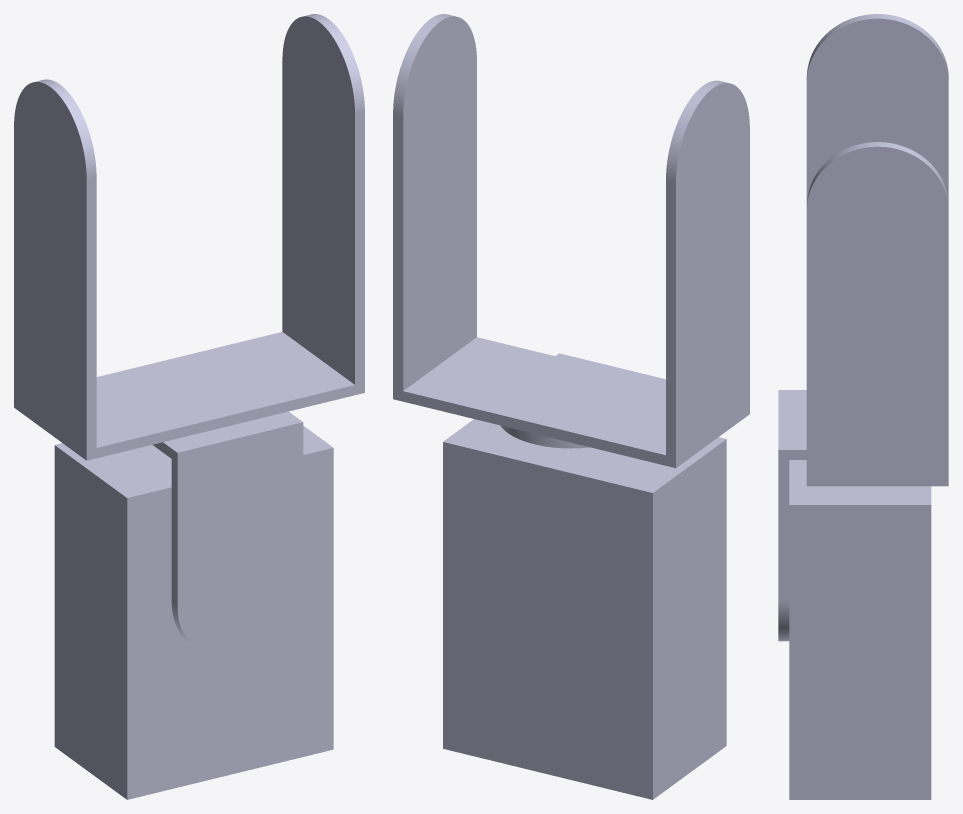
Rendered from AXIS_3.dae.
The picture shows the model from 3 angles, left to right: view 1: azimuth 30°, elevation 25°; view 2: azimuth 150°, elevation 25°; view 3: azimuth 270°, elevation 25°; orthographic projection. The views are drawn at different scales.
Parts seen in each view (by area): view 1: node0; view 2: node0; view 3: node0.
Boxes of the visible parts, x1,y1,x2,y2 form: node0: [14, 14, 364, 799]; node0: [393, 14, 749, 799]; node0: [778, 14, 948, 799].
Bounding box in the file's own units: 0.0562 × 0.0305 × 0.1327.
